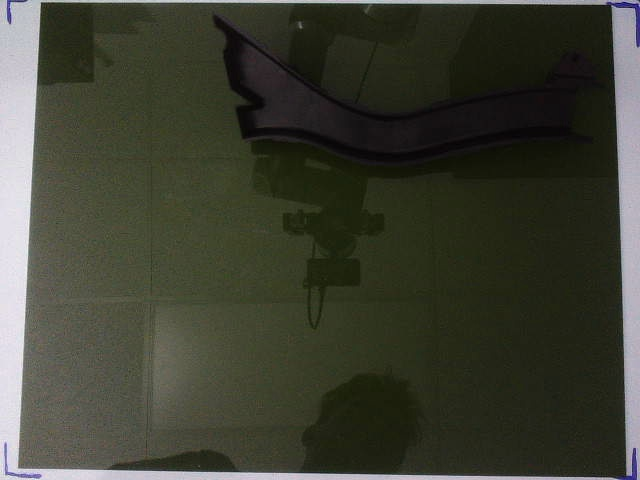887_A-Under: (211, 13, 598, 167)
